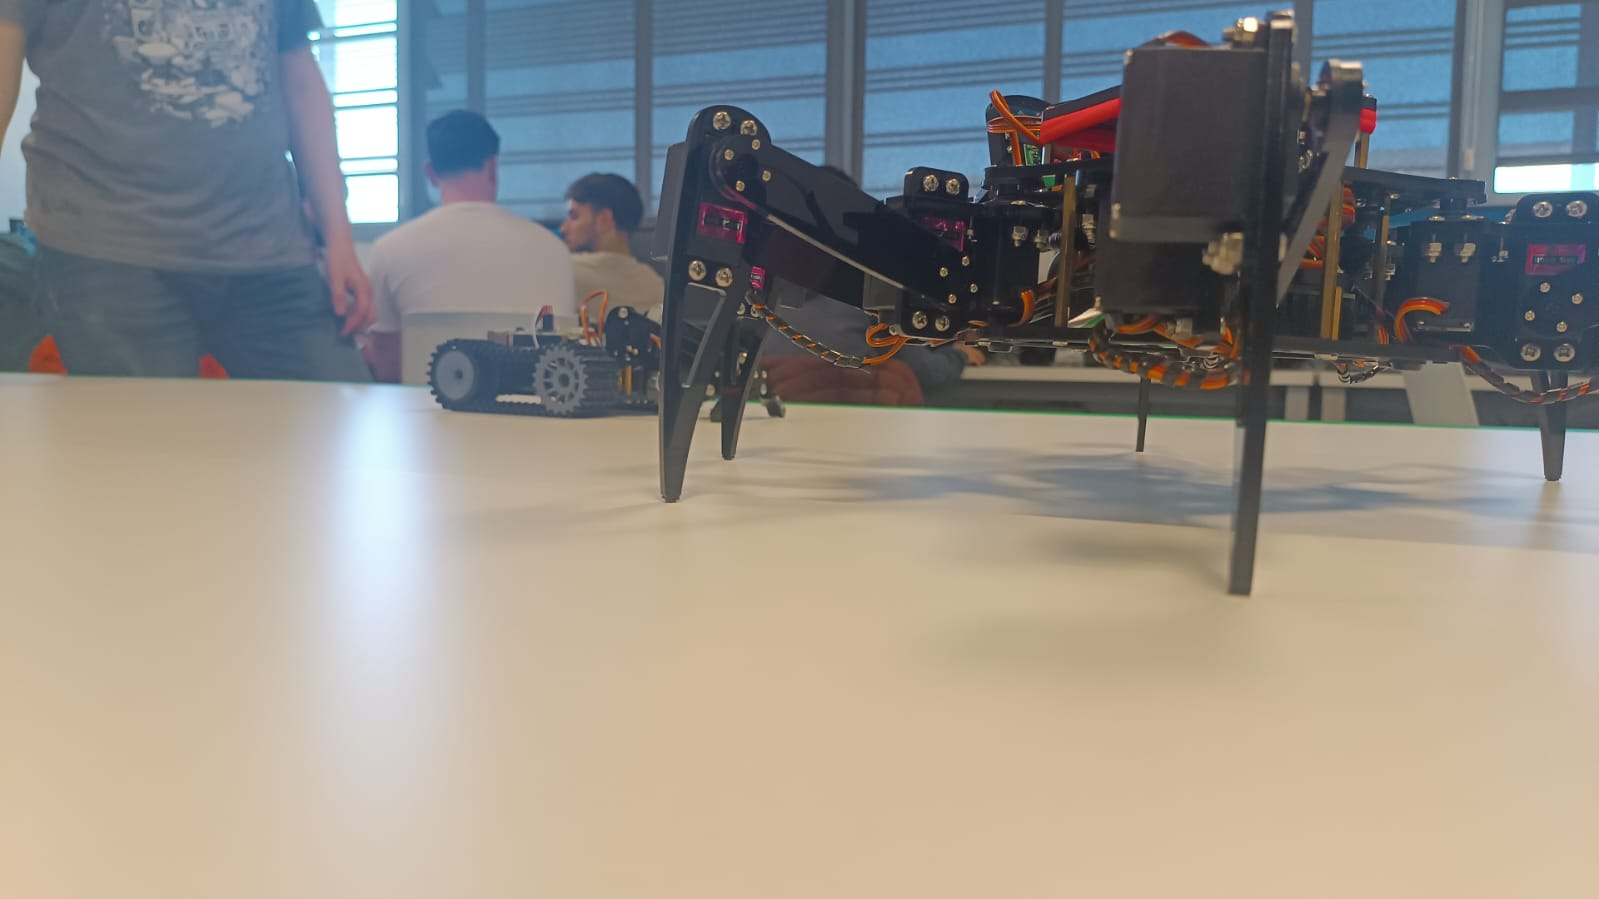hexapodo_propio: (661, 9, 1599, 595)
